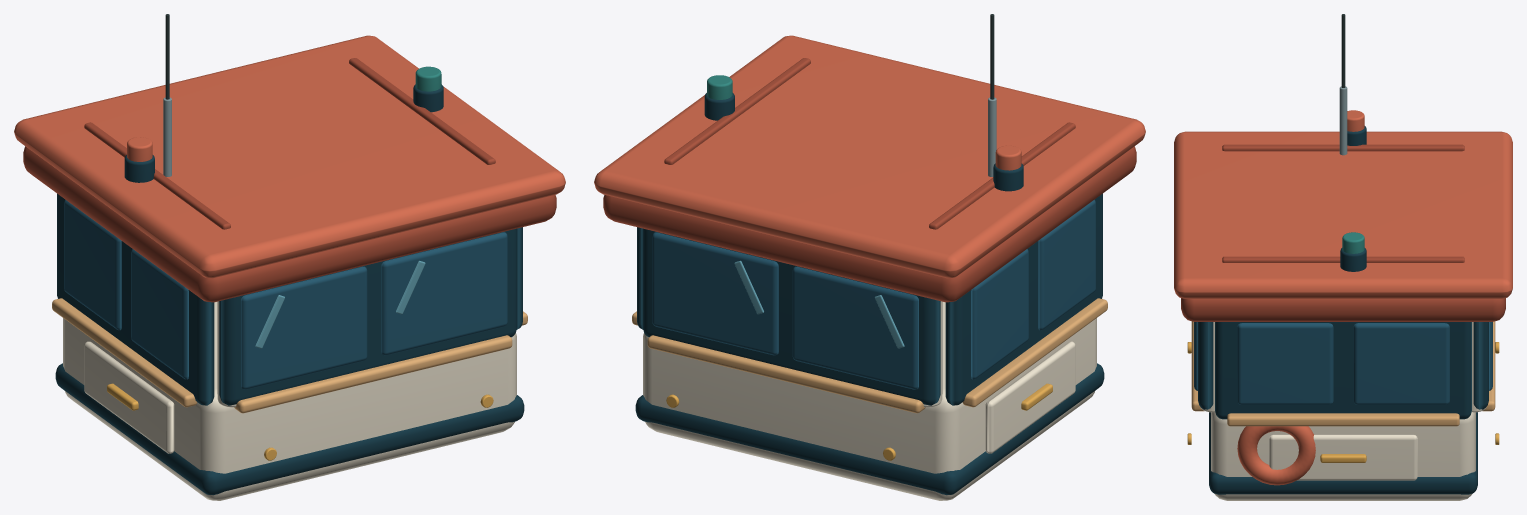
Rendered from Cabina.fbx.
The picture shows the model from 3 angles, left to right: view 1: azimuth 30°, elevation 25°; view 2: azimuth 150°, elevation 25°; view 3: azimuth 270°, elevation 25°; orthographic projection. The views are drawn at different scales.
Parts seen in each view (by area): view 1: Surf_Coral, Surf_Glass, Surf_Ivory, Surf_Navy, Surf_Rust, Surf_Almond, Surf_GlassLight, Surf_Steel, Surf_Brass, Surf_Teal; view 2: Surf_Coral, Surf_Glass, Surf_Ivory, Surf_Navy, Surf_Rust, Surf_Almond, Surf_GlassLight, Surf_Brass, Surf_Steel; view 3: Surf_Coral, Surf_Glass, Surf_Navy, Surf_Ivory, Surf_Rust, Surf_Almond, Surf_Brass, Surf_Steel, Surf_Teal.
Boxes of the visible parts, left/top/right/bottom form: Surf_Coral: left=14, top=35, right=565, bottom=278; Surf_Glass: left=64, top=200, right=507, bottom=389; Surf_Ivory: left=63, top=301, right=516, bottom=500; Surf_Navy: left=55, top=84, right=524, bottom=495; Surf_Rust: left=23, top=58, right=556, bottom=302; Surf_Almond: left=52, top=298, right=527, bottom=413; Surf_GlassLight: left=255, top=260, right=425, bottom=348; Surf_Steel: left=163, top=97, right=171, bottom=176; Surf_Brass: left=107, top=383, right=493, bottom=460; Surf_Teal: left=415, top=66, right=441, bottom=91; Surf_Coral: left=594, top=35, right=1145, bottom=278; Surf_Glass: left=652, top=200, right=1095, bottom=389; Surf_Ivory: left=643, top=301, right=1096, bottom=500; Surf_Navy: left=635, top=93, right=1104, bottom=495; Surf_Rust: left=603, top=58, right=1136, bottom=302; Surf_Almond: left=632, top=298, right=1107, bottom=413; Surf_GlassLight: left=734, top=260, right=904, bottom=348; Surf_Brass: left=666, top=383, right=1052, bottom=460; Surf_Steel: left=988, top=97, right=996, bottom=176; Surf_Coral: left=1174, top=110, right=1512, bottom=485; Surf_Glass: left=1194, top=322, right=1492, bottom=404; Surf_Navy: left=1198, top=126, right=1488, bottom=494; Surf_Ivory: left=1200, top=322, right=1486, bottom=500; Surf_Rust: left=1181, top=144, right=1505, bottom=321; Surf_Almond: left=1191, top=321, right=1495, bottom=426; Surf_Brass: left=1187, top=342, right=1499, bottom=462; Surf_Steel: left=1339, top=86, right=1347, bottom=155; Surf_Teal: left=1342, top=232, right=1364, bottom=253.
Size of the model in its own units: 1.82 by 2.06 by 1.69.
